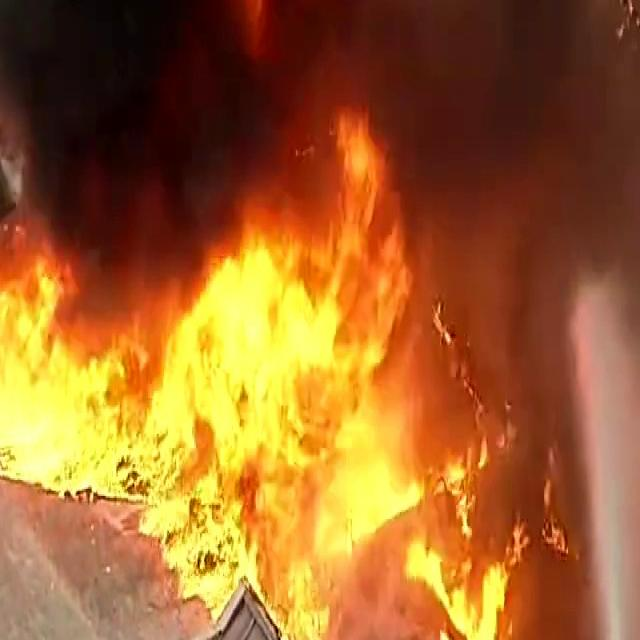fire: (134, 148, 392, 572), (0, 235, 138, 528)
smoke: (44, 0, 640, 155)
